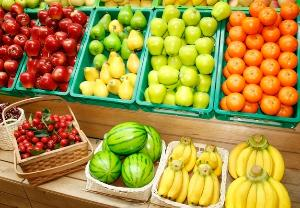apple: (145, 6, 229, 108), (0, 10, 86, 88)
banana: (227, 127, 289, 208), (162, 141, 226, 202)
pear: (74, 9, 150, 100)
tomato: (219, 6, 297, 110), (12, 107, 86, 165)
watermelon: (87, 124, 165, 188)
